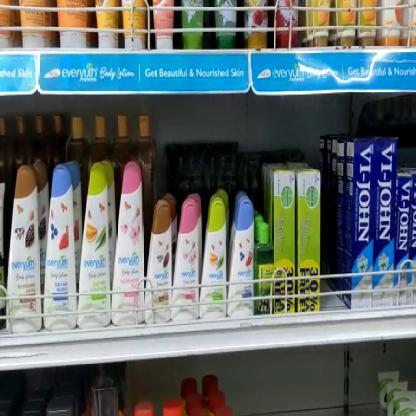Everyuth Naturals Body Lotion Nourishing Cocoa 200ml: (6, 166, 41, 334)
Everyuth Naturals Body Lotion Rejuvenating Flora 200ml: (112, 163, 146, 326)
Everyuth Naturals Body Lotion Soothing Citrus 200ml: (79, 162, 113, 328)
Everyuth Naturals Body Lotion Sun Care Berries SPF 15 200ml: (44, 162, 76, 330)
